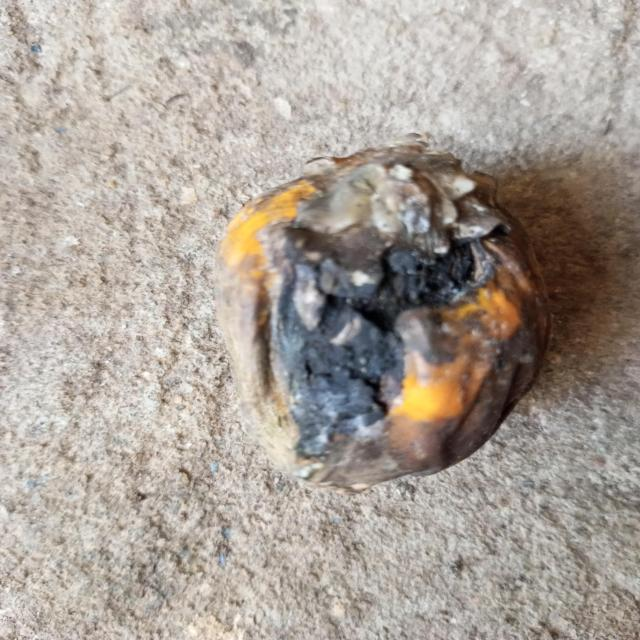damaged: (216, 135, 550, 492)
